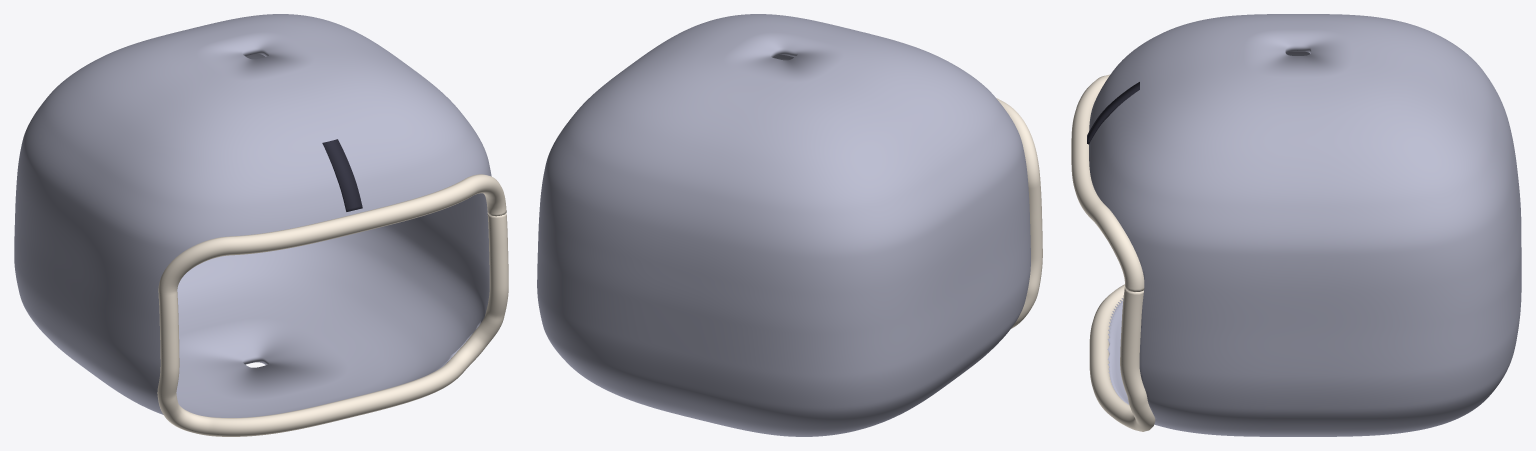
Rendered from squire_helmet.glb.
3 views of the same model, side by side, from view 1: azimuth 30°, elevation 25°; view 2: azimuth 150°, elevation 25°; view 3: azimuth 270°, elevation 25° (orthographic). The views are drawn at different scales.
Visible parts, largest first — view 1: squire_helmet__shell, squire_helmet__visor_rim, squire_helmet__forehead_stripe; view 2: squire_helmet__shell, squire_helmet__visor_rim; view 3: squire_helmet__shell, squire_helmet__visor_rim, squire_helmet__forehead_stripe.
Part boxes in pixels (x1,y1,x2,y2): squire_helmet__shell: (14,14,491,417); squire_helmet__visor_rim: (157,174,508,436); squire_helmet__forehead_stripe: (322,139,362,211); squire_helmet__shell: (537,14,1030,436); squire_helmet__visor_rim: (996,98,1042,328); squire_helmet__shell: (1089,14,1521,436); squire_helmet__visor_rim: (1071,74,1155,431); squire_helmet__forehead_stripe: (1087,82,1139,144).
Size of the model in its own units: 1.92 by 1.53 by 1.87.
